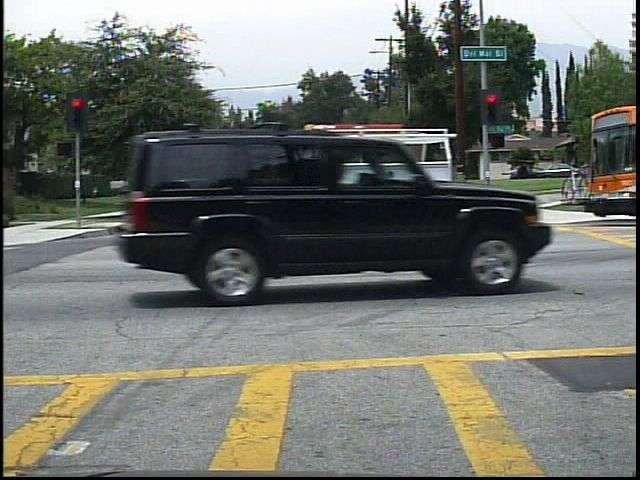car: (95, 109, 595, 313)
